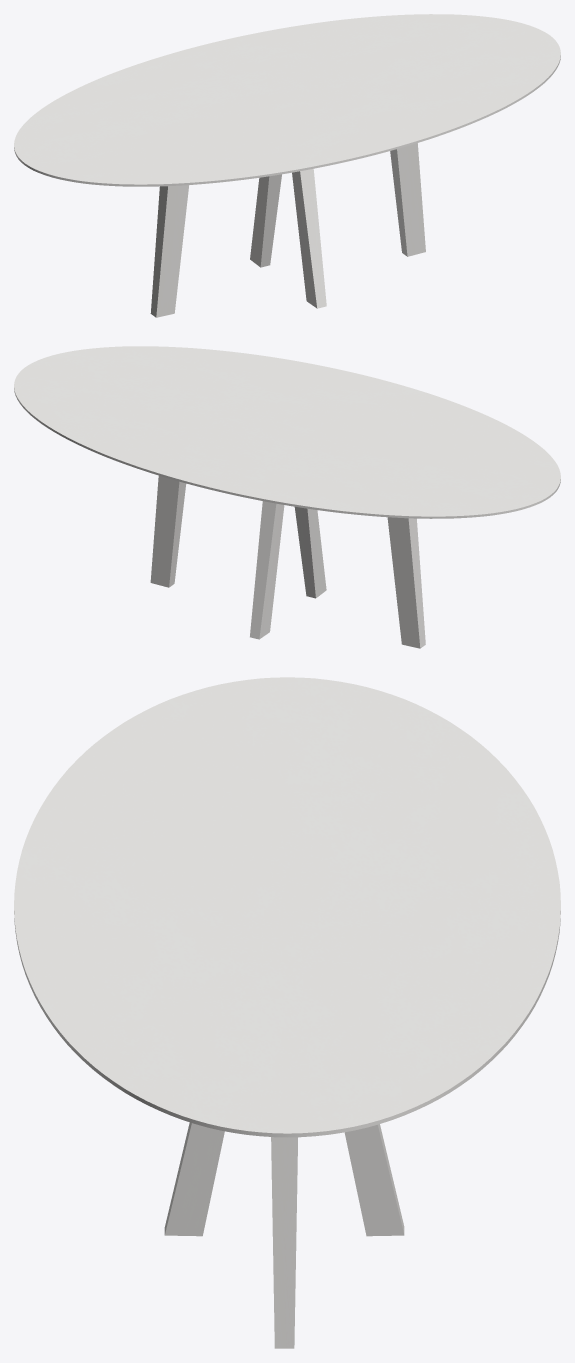
Rendered from purewhite_ellips_facet_searwalnut.glb.
The picture shows the model from 3 angles, top to bottom: view 1: azimuth 30°, elevation 25°; view 2: azimuth 150°, elevation 25°; view 3: azimuth 270°, elevation 25°; orthographic projection. The views are drawn at different scales.
Parts seen in each view (by area): view 1: facet_ellips, searwalnut; view 2: facet_ellips, searwalnut; view 3: facet_ellips, searwalnut.
Part boxes in pixels (x1,y1,x2,y2): facet_ellips: (14, 14, 560, 186); searwalnut: (150, 143, 425, 317); facet_ellips: (14, 346, 560, 518); searwalnut: (150, 475, 425, 648); facet_ellips: (14, 677, 560, 1137); searwalnut: (164, 1122, 404, 1348).
Size of the model in its own units: 7.5 by 2.5 by 3.8.
1 material, 1 textured.
